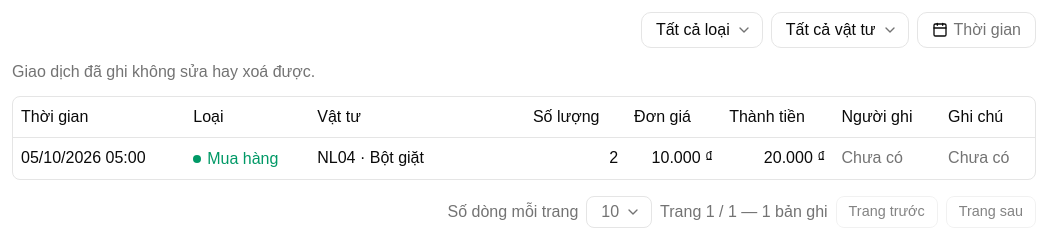
SupplierTransactions › ô Loại có đủ lựa chọn; ô Vật tư lấy từ vật tư của nhà cung cấp
This screenshot has width=1048, height=245.
Click the dropdown labelled "loại".
click(702, 30)  # box [641,12,763,48]
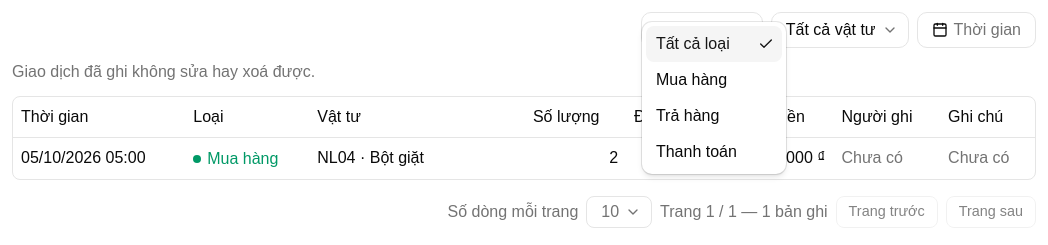
Now the options read "Tất cả loại", "Mua hàng", "Trả hàng", "Thanh toán", in this order, box [646,26,782,62]; [656,71,727,88]; [656,107,719,124]; [656,143,737,160]
Press Escape
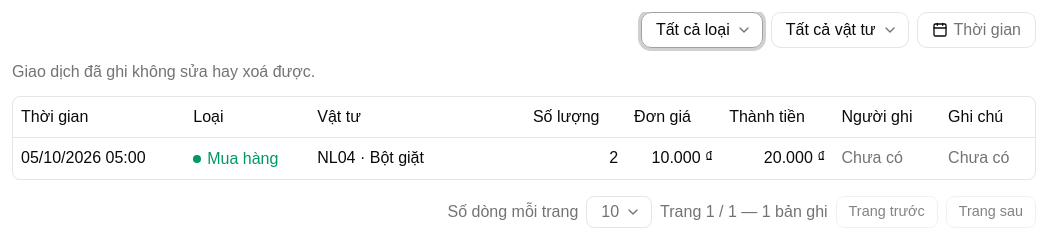
Click the dropdown labelled "vật tư".
click(840, 30)  # box [771,12,909,48]
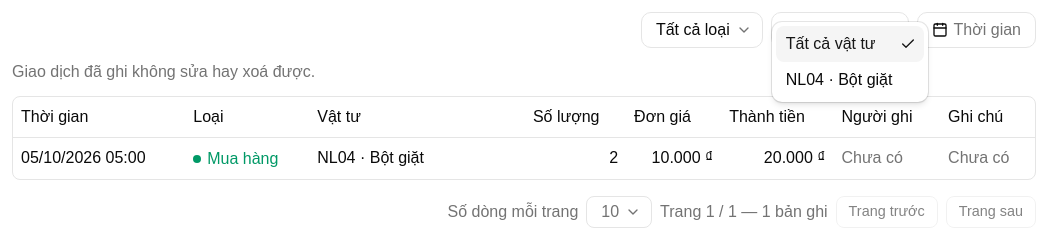
Now the options read "Tất cả vật tư", "NL04 · Bột giặt", in this order, box [776,26,924,62]; [786,71,892,88]
